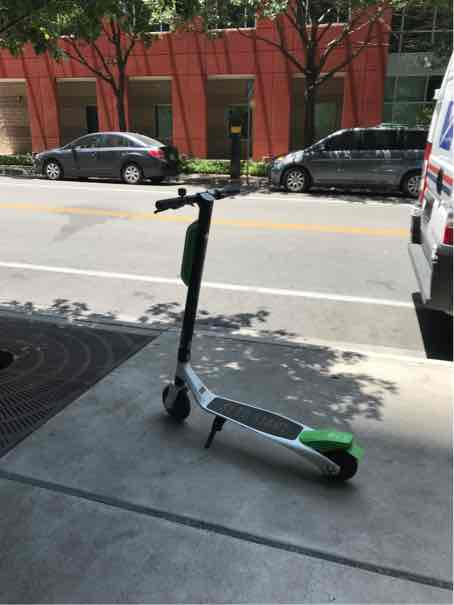scooter: (150, 181, 366, 494)
